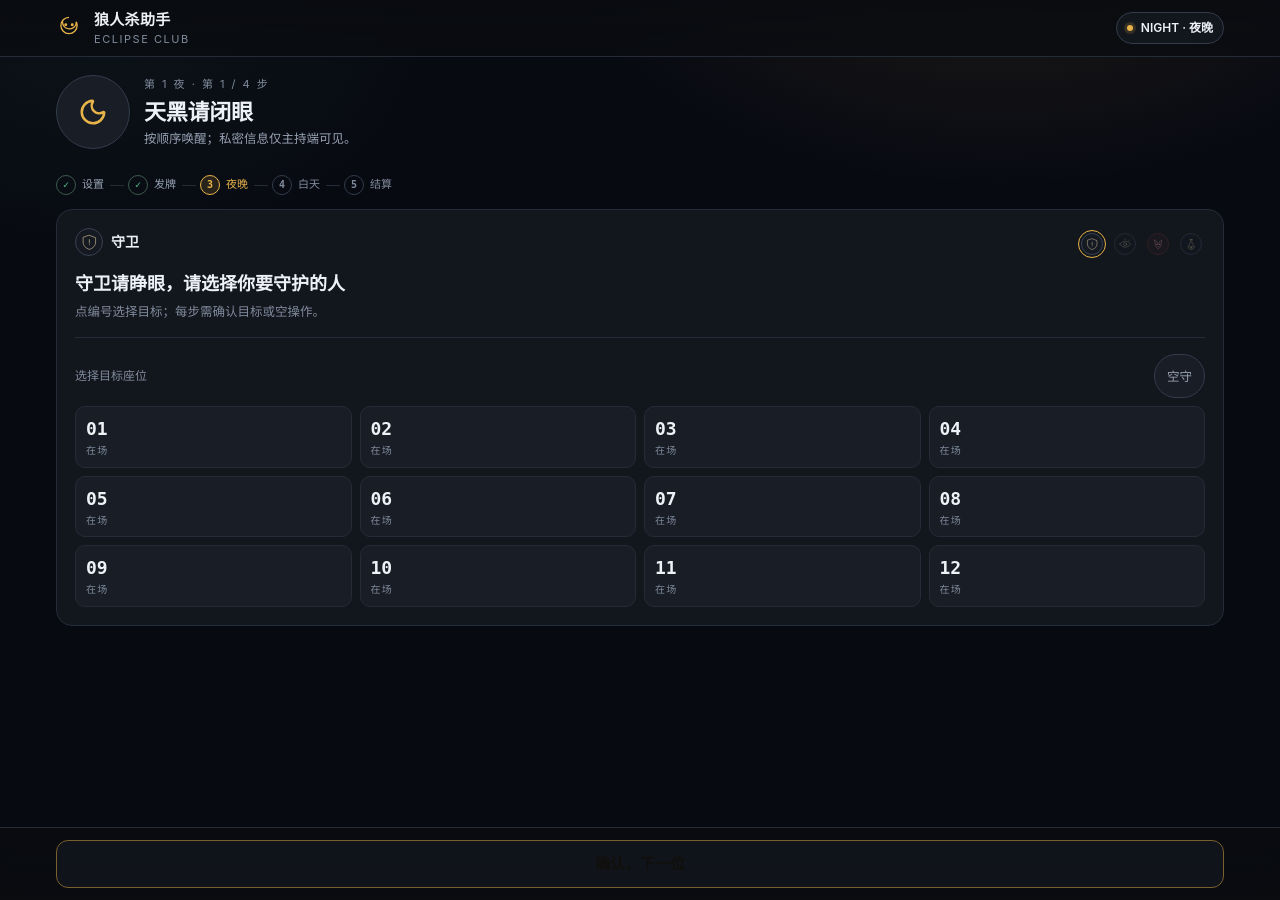
回退一步 › 夜间推进后可回退，快照随对局落库
expect the heading "天黑请闭眼" is shown: met, box [144, 99, 253, 125]
Step 1. Click the button "空守" → (1180, 376), box [1154, 354, 1205, 398]
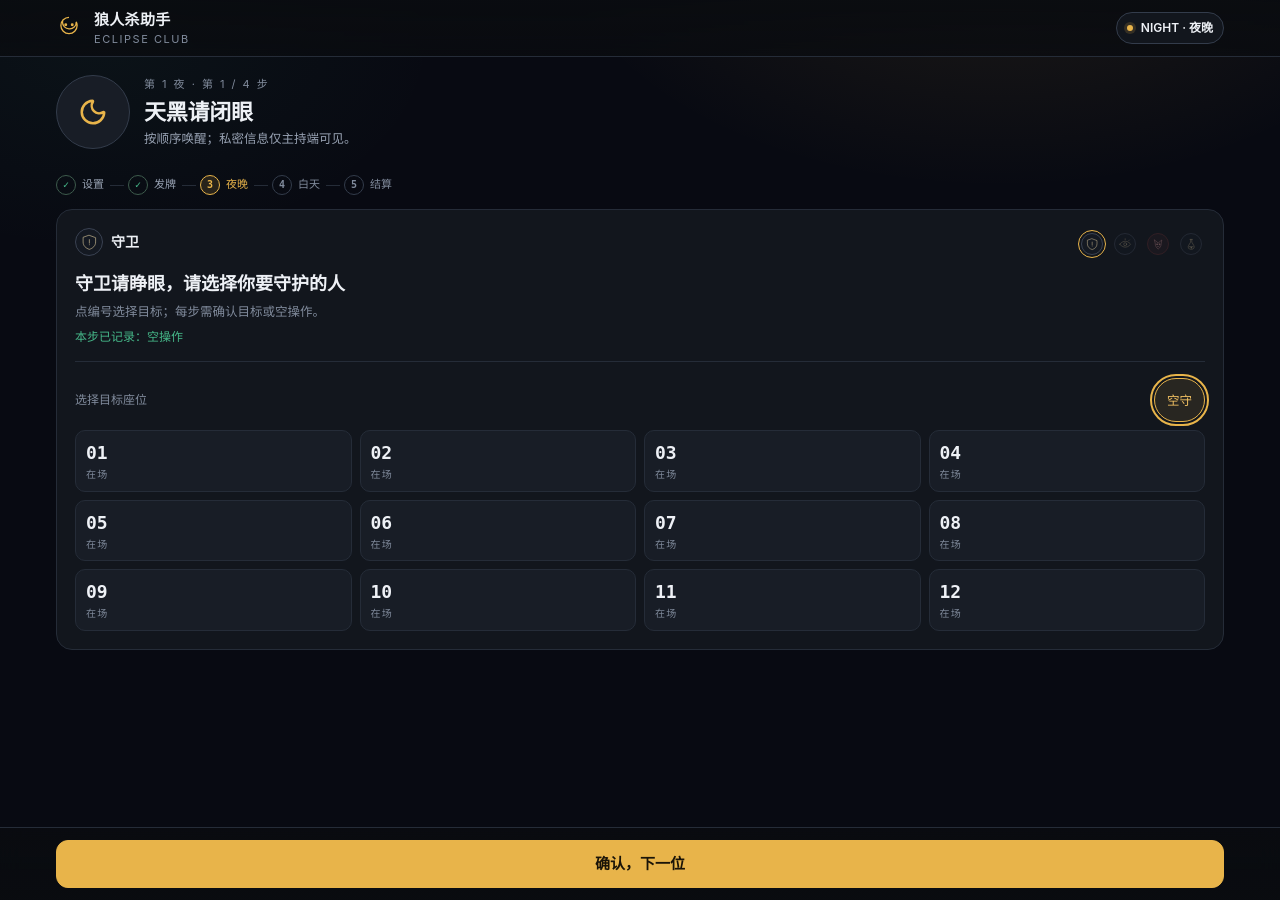
Step 2. Click the button "确认，下一位" → (640, 864), box [56, 840, 1224, 888]
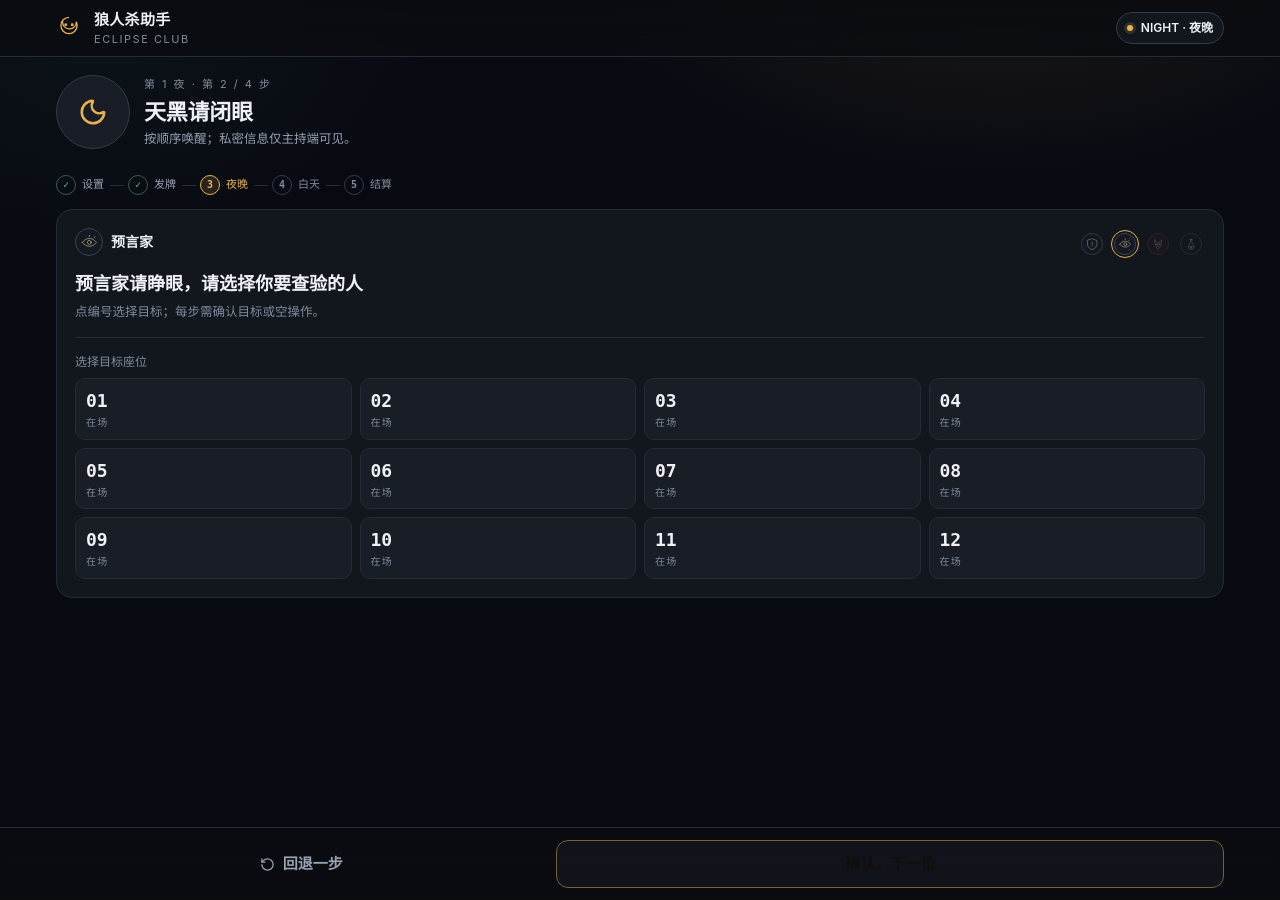
expect the text "预言家请睁眼，请选择你要查验的人" is shown: met, box [75, 273, 363, 294]
Step 3. Click the button "回退一步" → (301, 864), box [56, 842, 546, 886]
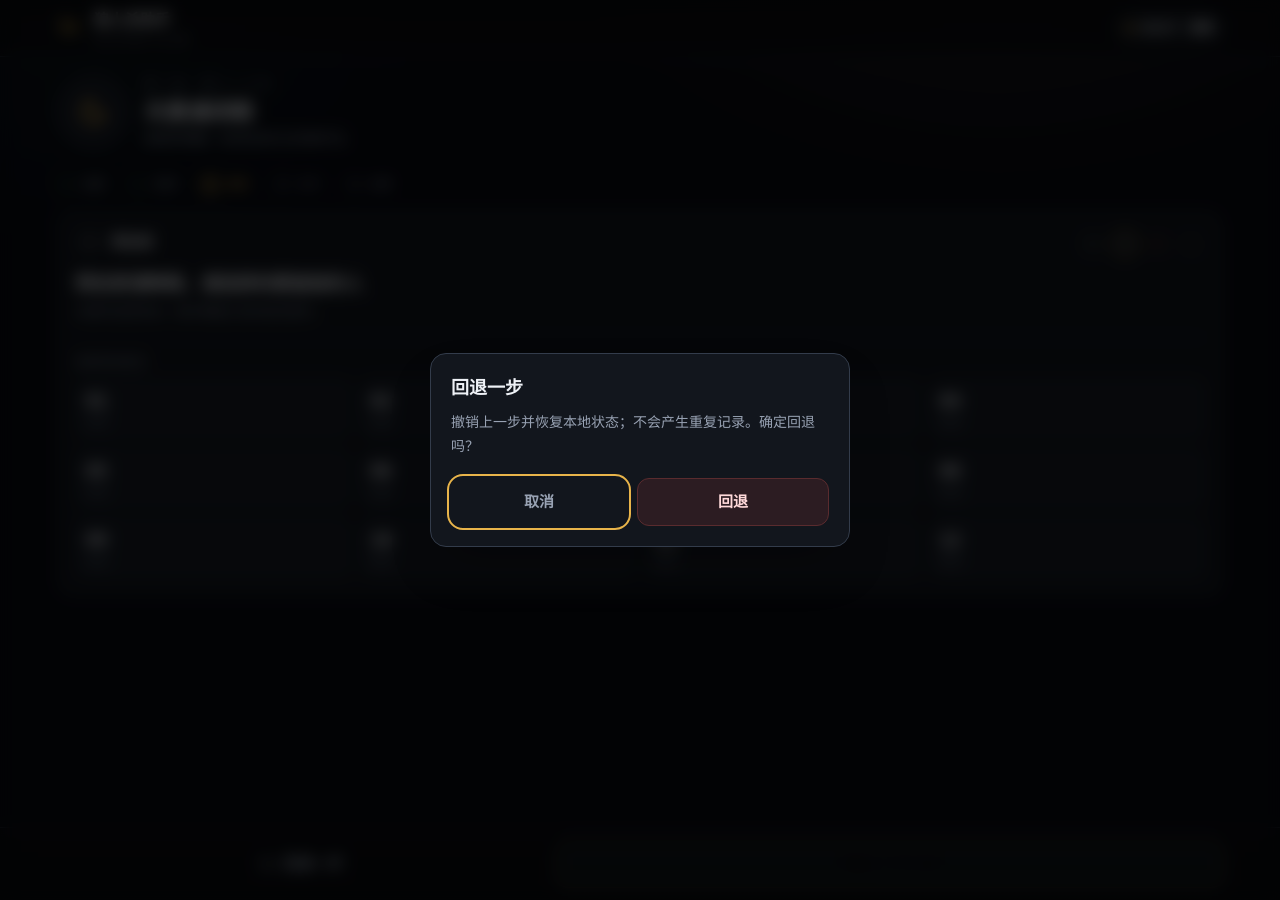
Step 4. Click the button "回退" → (733, 502), box [637, 478, 829, 526]
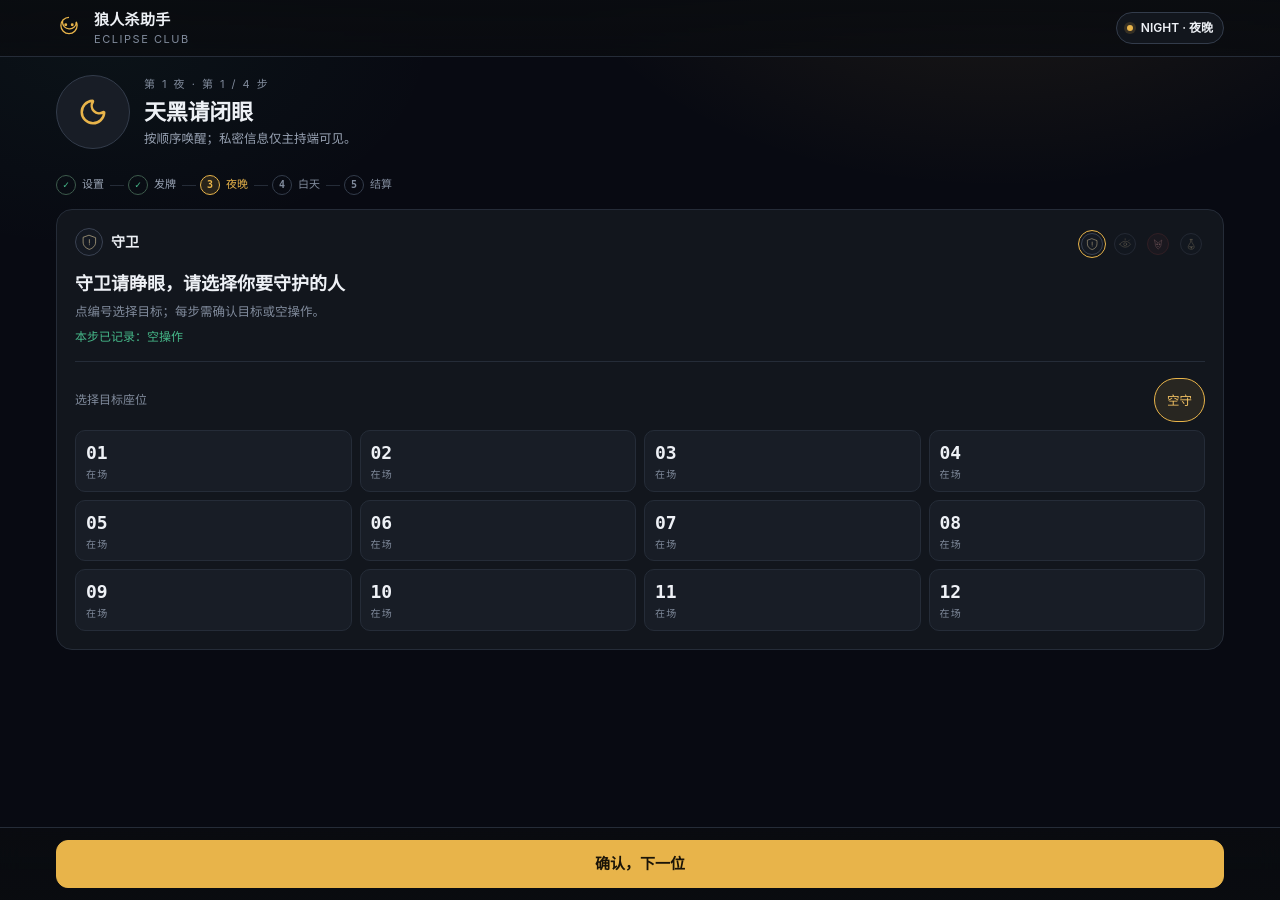
expect the text "守卫请睁眼，请选择你要守护的人" is shown: met, box [75, 273, 345, 294]
